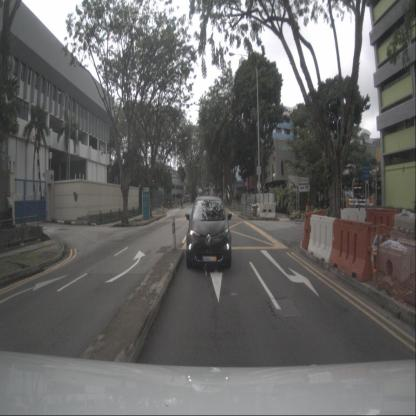movable_object-barrier: (329, 219, 373, 282), (308, 214, 339, 264), (366, 207, 400, 243), (340, 207, 369, 243), (302, 210, 328, 249), (260, 203, 276, 218)
movable_object-trafficcone: (365, 230, 377, 274)
vehicle-car: (186, 196, 232, 269), (333, 189, 358, 211)
